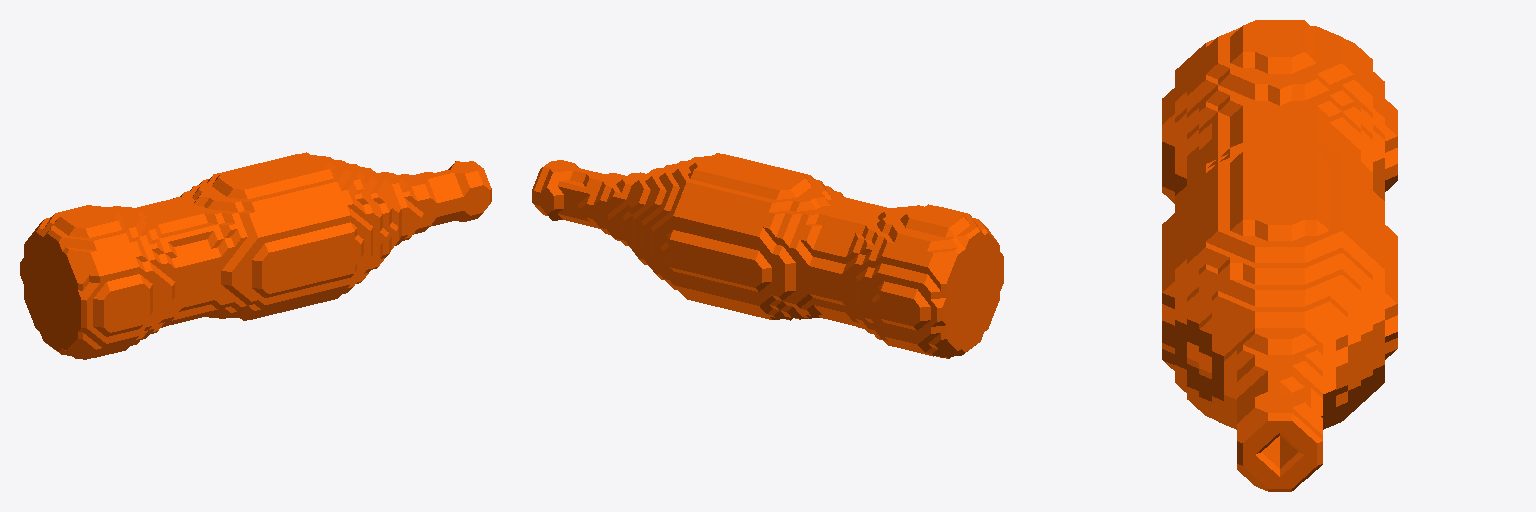
robot.urdf — DrinkBottle_blue_1ef:
<robot name="DrinkBottle_blue_1ef">
   <material name="obj_color">
      <color rgba="1.0 0.423529411765 0.0392156862745 1.0" />
   </material>
   <link name="top">
      <inertial>
         <origin rpy="5.233359466486897e-05 0.0003467296513730619 0.0003469357642424552" xyz="-0.004627176981454584 -2.330769085384181e-05 1.243571232702739e-05" />
         <mass value="0.24875" />
         <inertia ixx="5.23336193175688e-05" ixy="-4.855360435758703e-08" ixz="-7.000617470535222e-08" iyy="0.0003469243395791433" iyz="-4.715791418556615e-08" izz="0.000346741051383674" />
      </inertial>
      <visual>
         <origin rpy="0 0 0" xyz="0 0 0" />
         <geometry>
            <mesh filename="top_watertight_tiny.stl" scale="1 1 1" />
         </geometry>
         <material name="obj_color" />
      </visual>
      <collision>
         <origin rpy="0 0 0" xyz="0 0 0" />
         <geometry>
            <mesh filename="top_watertight_tiny.obj" scale="1 1 1" />
         </geometry>
      </collision>
   </link>
   <link name="bottom">
      <inertial>
         <origin rpy="1.633333333194242e-08 1.633333333194243e-08 1.633333333357667e-08" xyz="0.3464080000000008 0.3464080000000008 0.3464080000000008" />
         <mass value="0.0009800000000000017" />
         <inertia ixx="1.633333333248717e-08" ixy="5.447480642029219e-19" ixz="5.447480642029219e-19" iyy="1.633333333248717e-08" iyz="5.447480642029219e-19" izz="1.633333333248717e-08" />
      </inertial>
      <visual>
         <origin rpy="0 0 0" xyz="0 0 0" />
         <geometry>
            <mesh filename="bottom_watertight_tiny.stl" scale="1 1 1" />
         </geometry>
         <material name="obj_color" />
      </visual>
   </link>
   <joint name="rotation" type="revolute">
      <origin xyz="0 0 0" />
      <axis xyz="0 0 -1" />
      <parent link="bottom" />
      <child link="top" />
      <dynamics damping="1.0" friction="1.0" />
      <limit effort="0.1" velocity="0.1" lower="0" upper="0.001" />
   </joint>
</robot>

--- Render facts (derived) ---
The picture shows the robot from 3 angles, left to right: view 1: azimuth 30°, elevation 25°; view 2: azimuth 150°, elevation 25°; view 3: azimuth 270°, elevation 25°; orthographic projection.
Robot: DrinkBottle_blue_1ef — 2 links, 1 joints (1 revolute); root link bottom; default pose: all joints at 0.
Visible links, largest first — view 1: top; view 2: top; view 3: top.
Link boxes in pixels (left/top/right/bottom): top: left=20, top=152, right=491, bottom=359; top: left=532, top=153, right=1003, bottom=358; top: left=1162, top=20, right=1397, bottom=491.
Bounding box of the posed robot: 0.1521 × 0.0445 × 0.0445 m (x, y, z).
1 mesh visuals loaded from 2 distinct referenced files (1 binary STL); not drawn: 1 (reference not matched to a file when rendering).